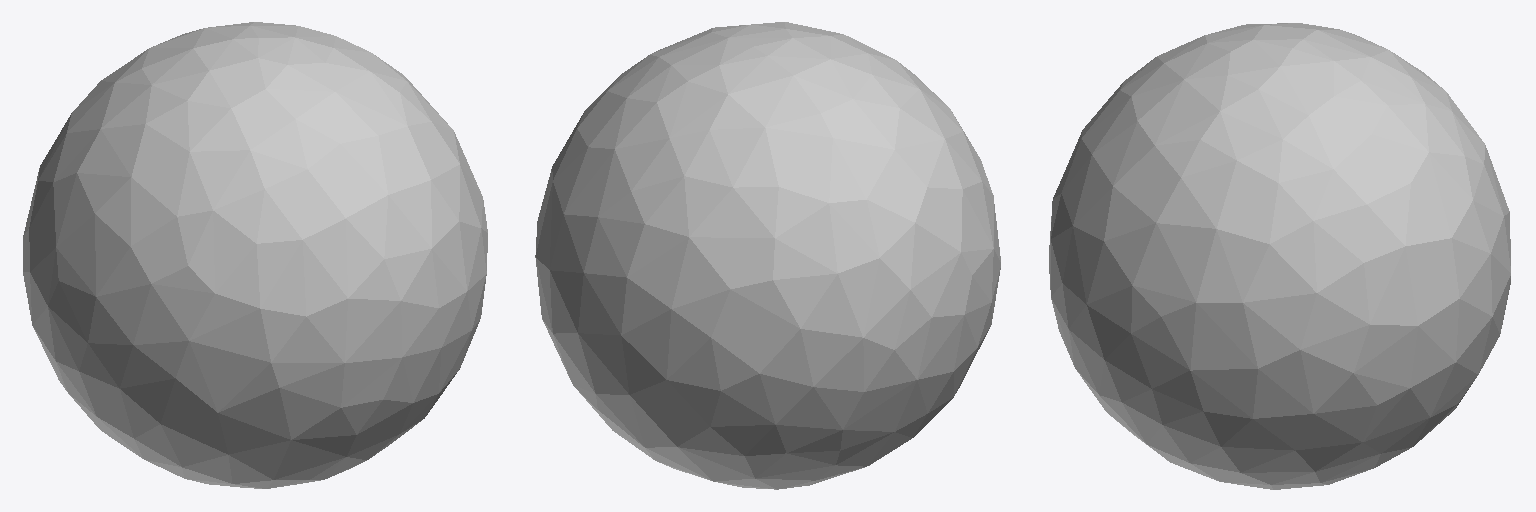
Rendered from Mars.obj.
3 views of the same model, side by side, from view 1: azimuth 30°, elevation 25°; view 2: azimuth 150°, elevation 25°; view 3: azimuth 270°, elevation 25° (orthographic).
Visible parts, largest first — view 1: Mars_Sphere.001; view 2: Mars_Sphere.001; view 3: Mars_Sphere.001.
Boxes of the visible parts, x1=… form: Mars_Sphere.001: x1=23, y1=22, x2=487, y2=488; Mars_Sphere.001: x1=535, y1=22, x2=1000, y2=489; Mars_Sphere.001: x1=1049, y1=23, x2=1510, y2=489.
Size of the model in its own units: 2 by 2 by 1.98.